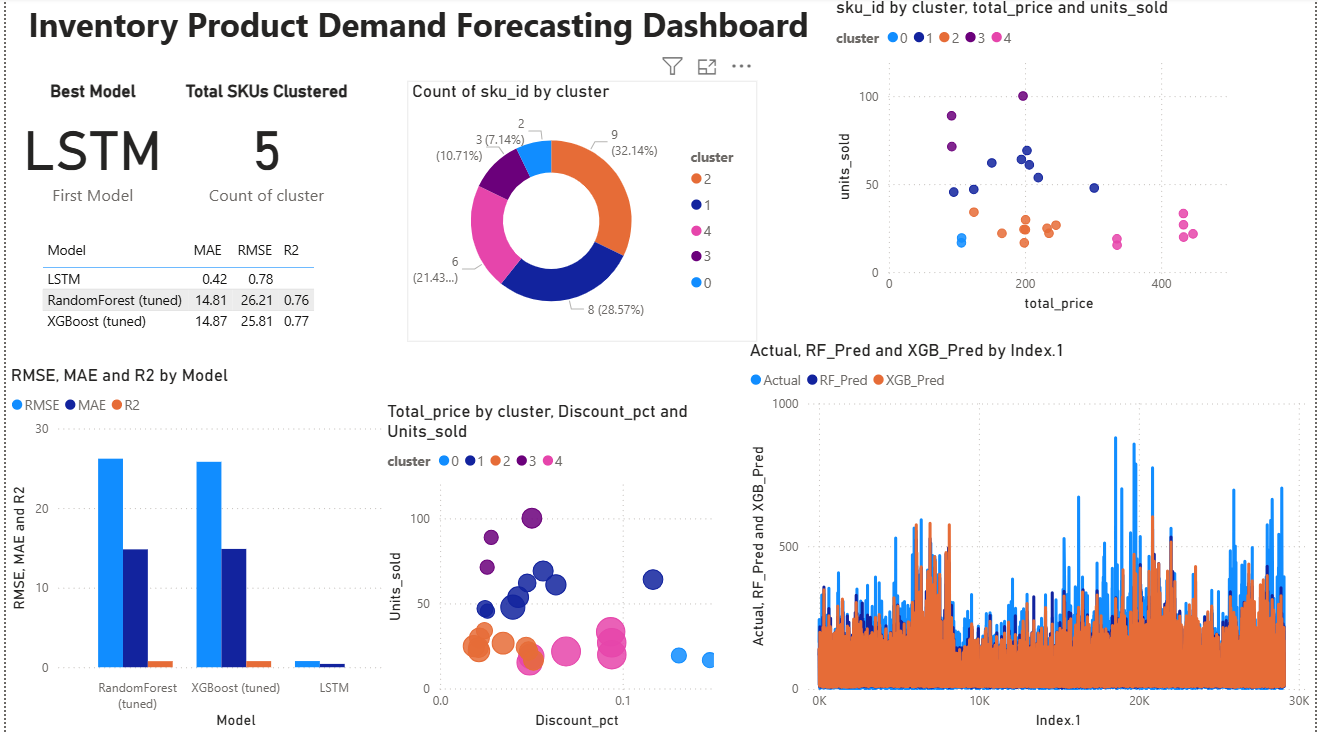

What the dashboard file says about the page in this screenshot:
{"tool":"powerbi","page":{"name":"Page 1","canvas":[1280,720],"ordinal":0},"visuals":[{"type":"card","title":"Best Model","fields":{"Values":["Min(model_results.Model)"]},"box":[0,82.3,170.2,126.2],"z":0},{"type":"actionButton","box":[0,0,100,40],"z":1000},{"type":"card","title":"Total SKUs Clustered","fields":{"Values":["Count(sku_summary.cluster)"]},"box":[170.2,82.3,170.2,126.2],"z":2000},{"type":"tableEx","fields":{"Values":["model_results.Model","model_results.MAE","model_results.RMSE","model_results.R2"]},"box":[28.8,230.5,282.7,104.3],"z":3000},{"type":"clusteredColumnChart","fields":{"Category":["model_results.Model"],"Y":["Sum(model_results.RMSE)","Sum(model_results.MAE)","Sum(model_results.R2)"]},"box":[0,359.5,403.4,360.9],"z":4000},{"type":"lineChart","fields":{"Y":["Sum(actual_vs_pred.Actual)","Sum(actual_vs_pred.RF_Pred)","Sum(actual_vs_pred.XGB_Pred)"],"Category":["actual_vs_pred.Index.1"]},"box":[723.2,334.8,557.1,385.6],"z":5000},{"type":"scatterChart","fields":{"X":["sku_summary.total_price"],"Y":["sku_summary.units_sold"],"Series":["sku_summary.cluster"]},"box":[806.9,0,404.8,312.9],"z":6000},{"type":"scatterChart","fields":{"X":["sku_summary.discount_pct"],"Y":["sku_summary.units_sold"],"Size":["Sum(sku_summary.total_price)"],"Series":["sku_summary.cluster"]},"box":[367.8,395.2,341.7,325.2],"z":7000},{"type":"donutChart","fields":{"Category":["sku_summary.cluster"],"Y":["CountNonNull(sku_summary.sku_id)"]},"box":[392.5,82.3,343.1,255.2],"z":8000},{"type":"textbox","box":[0,0,806.9,57.6],"z":9000}]}

Visuals, with their boxes in screenshot pixels (x1, y1, x2, y2), scaled from the page's 1280x720 canvas onto the 1318x733 screenshot:
"Best Model" card: (left=0, top=84, right=175, bottom=212)
actionButton: (left=0, top=0, right=103, bottom=41)
"Total SKUs Clustered" card: (left=175, top=84, right=351, bottom=212)
tableEx - model_results.Model x model_results.MAE: (left=30, top=235, right=321, bottom=341)
clusteredColumnChart - model_results.Model x Sum(model_results.RMSE): (left=0, top=366, right=415, bottom=732)
lineChart - Sum(actual_vs_pred.Actual) x Sum(actual_vs_pred.RF_Pred): (left=745, top=341, right=1317, bottom=732)
scatterChart - sku_summary.total_price x sku_summary.units_sold: (left=831, top=0, right=1248, bottom=319)
scatterChart - sku_summary.discount_pct x sku_summary.units_sold: (left=379, top=402, right=731, bottom=732)
donutChart - sku_summary.cluster x CountNonNull(sku_summary.sku_id): (left=404, top=84, right=757, bottom=344)
textbox: (left=0, top=0, right=831, bottom=59)
